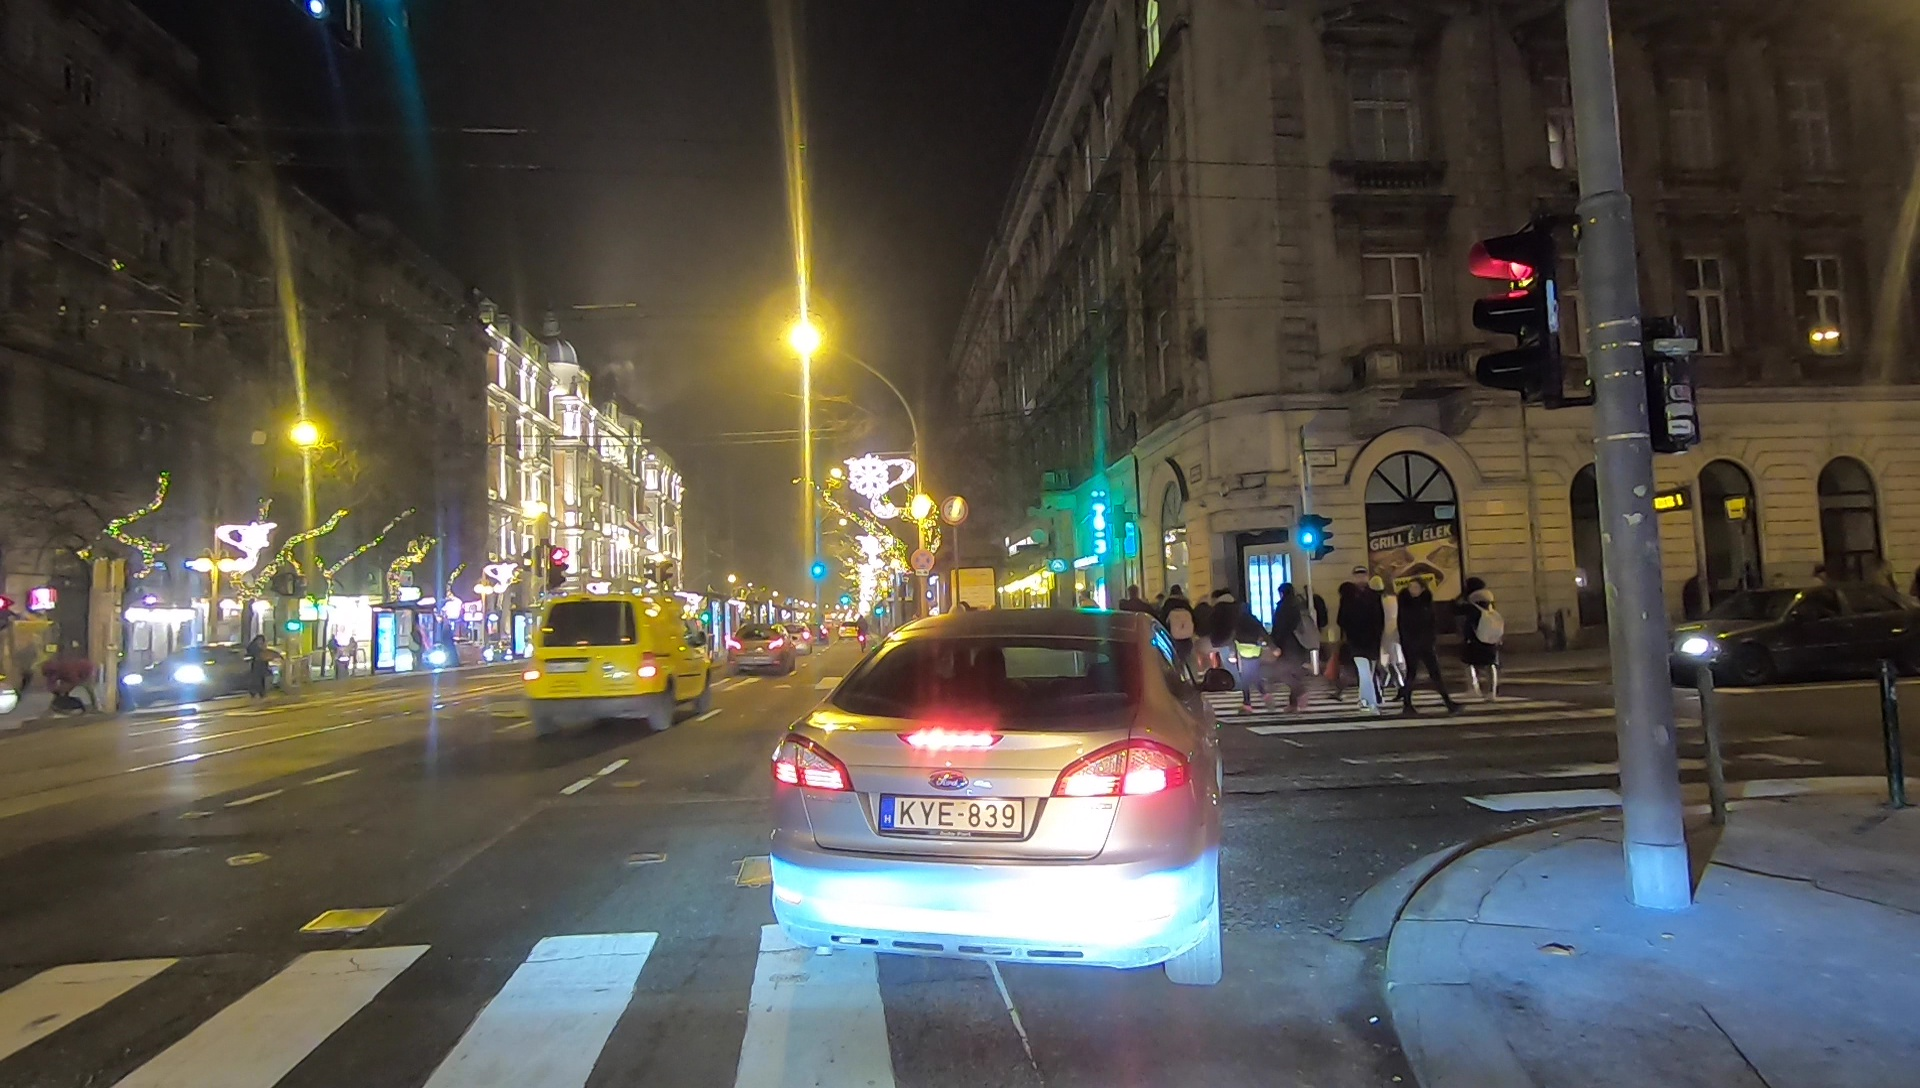person: (1398, 584, 1455, 716), (1338, 567, 1386, 712), (1457, 581, 1500, 700), (1276, 582, 1310, 714), (41, 654, 101, 722), (1235, 611, 1274, 714), (1213, 589, 1245, 676), (1164, 587, 1194, 672), (1197, 592, 1218, 669), (247, 635, 272, 691)
